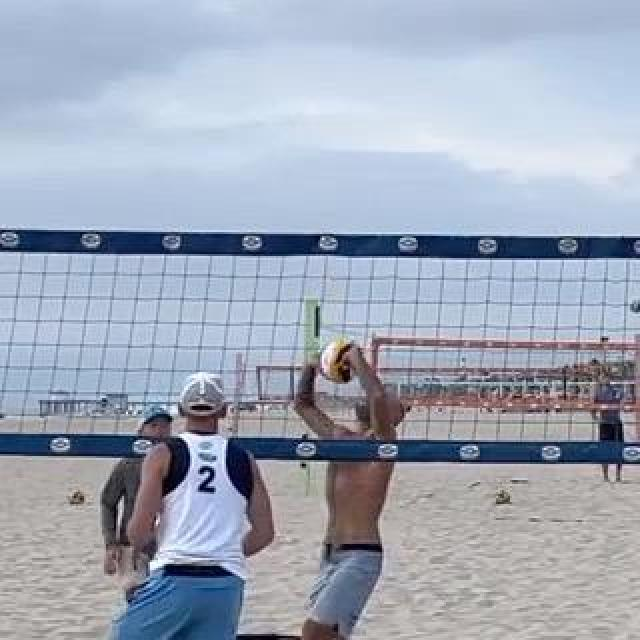volleyball: (321, 339, 363, 383), (70, 490, 86, 506), (495, 489, 511, 505)
